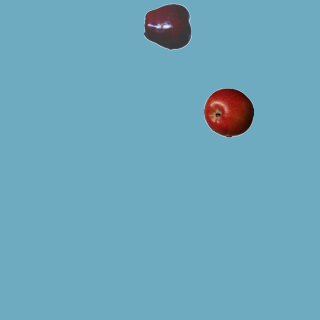Apple Braeburn: (203, 87, 253, 137)
Apple Red Delicious: (143, 1, 193, 51)
